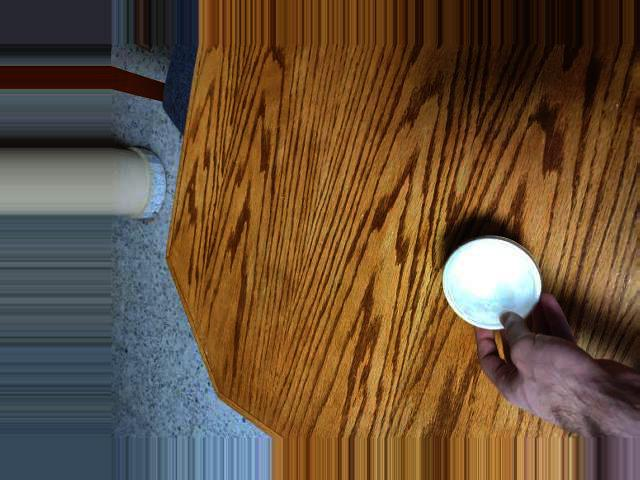cotage: (435, 229, 549, 342)
